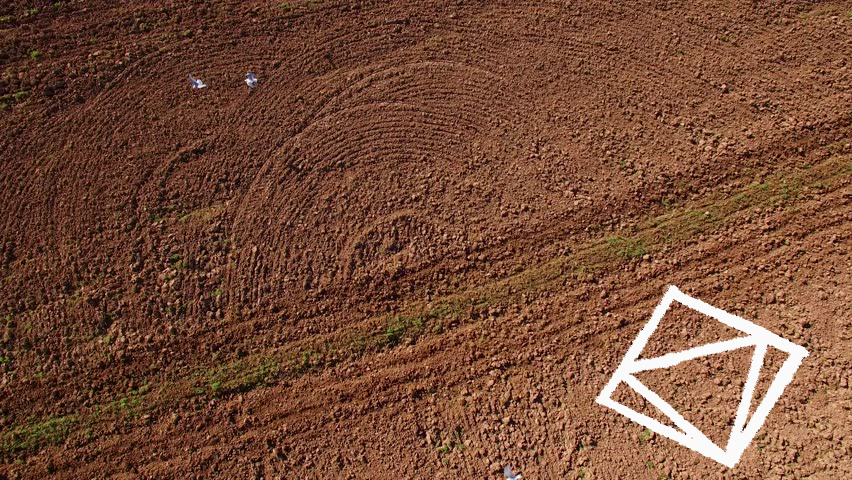marker: (591, 279, 809, 475)
